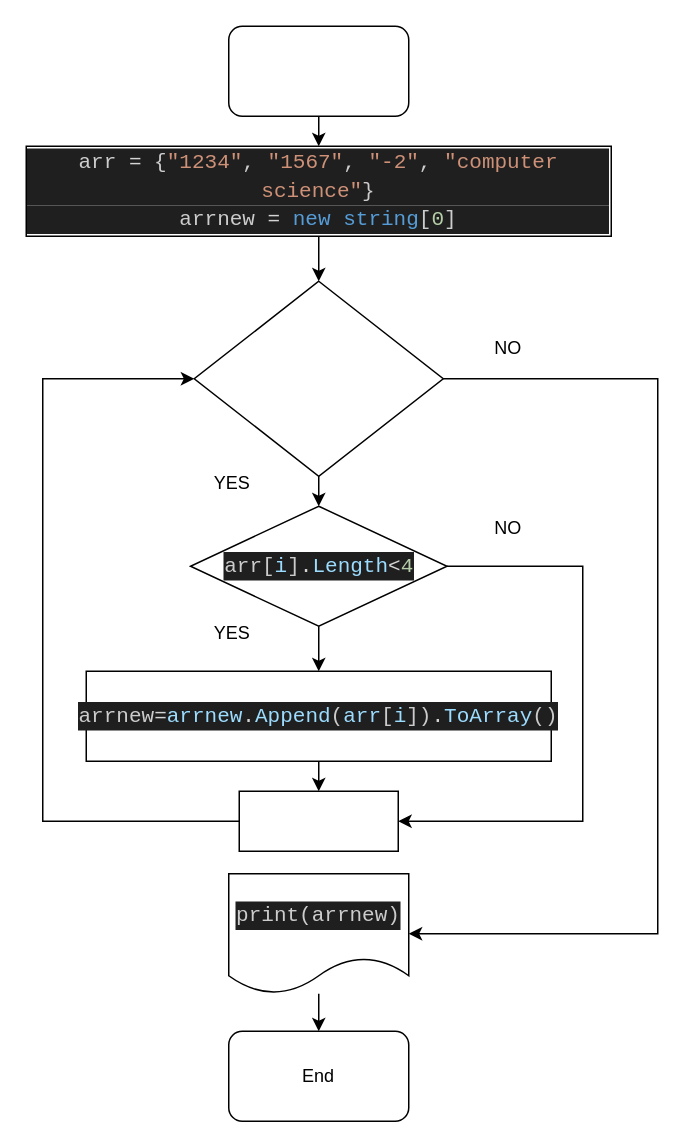
The diagram is 696 pixels wide and 1148 high, and some of its shapes have lost their labels. The shapes that lost their labels are listed below. From the top down, each one's box as (x1, y1, x2, y2) in pixels, then its label:
(227, 25, 409, 116): Start
(193, 280, 443, 476): i < arr . GetLength ( 0 )
(238, 790, 398, 851): i=i +1
